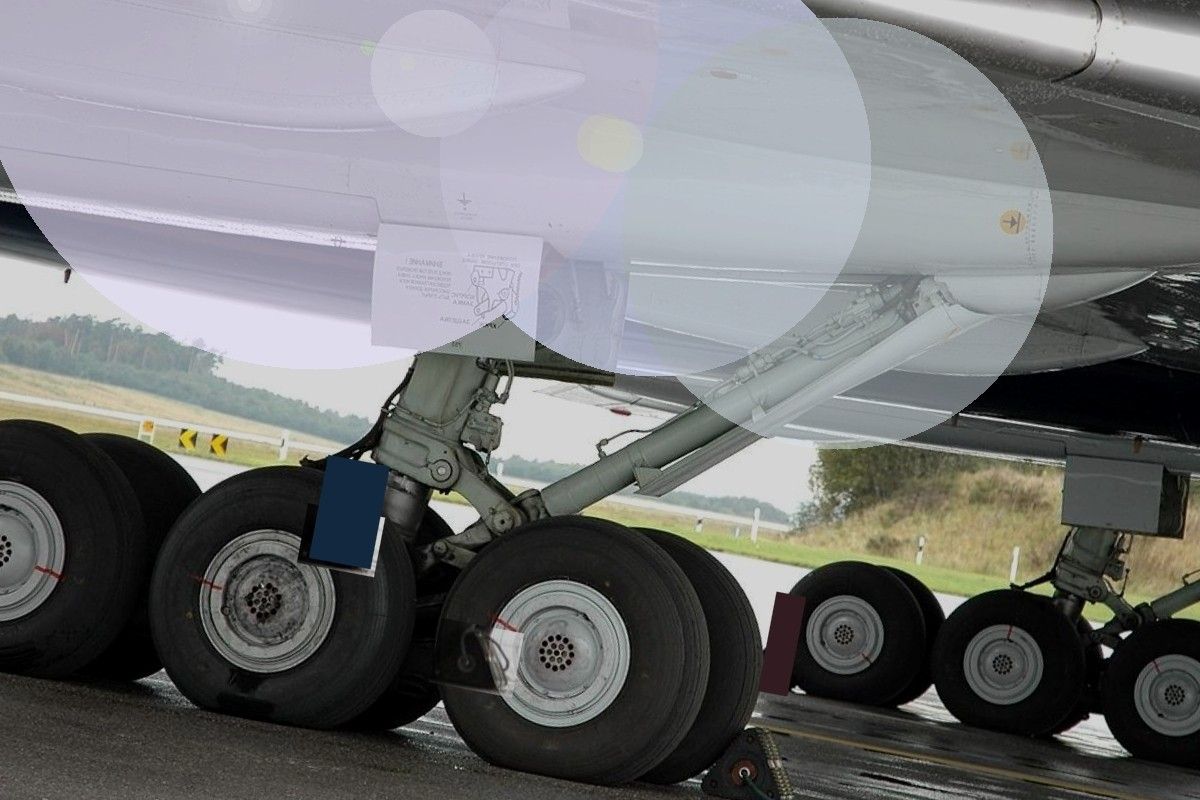chock: (693, 713, 816, 800), (429, 618, 524, 698), (297, 503, 385, 577), (751, 639, 802, 695)
wheel: (411, 490, 741, 800), (126, 443, 439, 752), (0, 395, 157, 697), (923, 581, 1101, 751), (766, 543, 940, 715), (1086, 607, 1200, 782)
